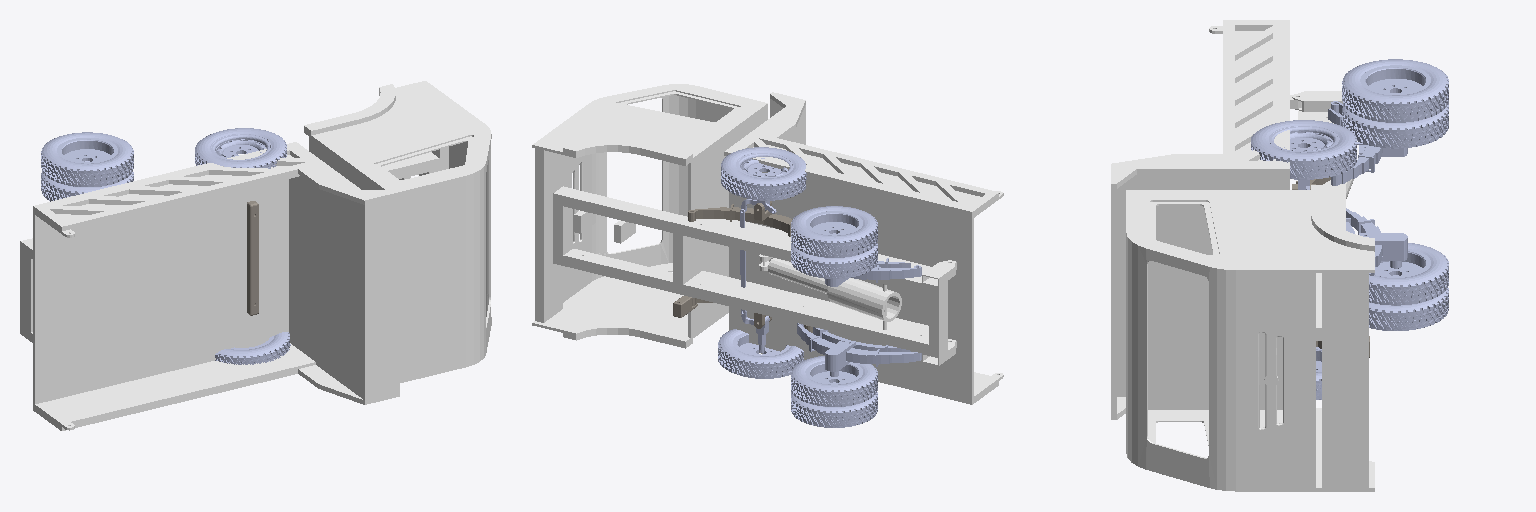
URDF robot description (Assem11):
<?xml version="1.0" encoding="utf-8"?>
<!-- This URDF was automatically created by SolidWorks to URDF Exporter! Originally created by [author] ([email redacted]) 
     Commit Version: 1.6.0-4-g7f85cfe  Build Version: 1.6.7995.38578
     For more information, please see http://wiki.ros.org/sw_urdf_exporter -->
<robot
  name="Assem11">
  <link
    name="base_link">
    <inertial>
      <origin
        xyz="-0.472647441390191 0.0789496187119673 -0.0328685285624268"
        rpy="0 0 0" />
      <mass
        value="0.422184039657028" />
      <inertia
        ixx="0.000320826217154303"
        ixy="4.20879745539875E-05"
        ixz="7.16279846938345E-05"
        iyy="0.00561040931161564"
        iyz="-1.07433119929774E-06"
        izz="0.00533913204176968" />
    </inertial>
    <visual>
      <origin
        xyz="0 0 0"
        rpy="0 0 0" />
      <geometry>
        <mesh
          filename="package://Assem11/meshes/base_link.STL" />
      </geometry>
      <material
        name="">
        <color
          rgba="0.792156862745098 0.819607843137255 0.933333333333333 1" />
      </material>
    </visual>
    <collision>
      <origin
        xyz="0 0 0"
        rpy="0 0 0" />
      <geometry>
        <mesh
          filename="package://Assem11/meshes/base_link.STL" />
      </geometry>
    </collision>
  </link>
  <link
    name="Chassis_Link">
    <inertial>
      <origin
        xyz="-0.472647441390191 0.0789496187119673 -0.0328685285624268"
        rpy="0 0 0" />
      <mass
        value="0.422184039657028" />
      <inertia
        ixx="0.000320826217154303"
        ixy="4.20879745539875E-05"
        ixz="7.16279846938345E-05"
        iyy="0.00561040931161564"
        iyz="-1.07433119929774E-06"
        izz="0.00533913204176968" />
    </inertial>
    <visual>
      <origin
        xyz="0 0 0"
        rpy="0 0 0" />
      <geometry>
        <mesh
          filename="package://Assem11/meshes/Chassis_Link.STL" />
      </geometry>
      <material
        name="">
        <color
          rgba="1 1 1 1" />
      </material>
    </visual>
    <collision>
      <origin
        xyz="0 0 0"
        rpy="0 0 0" />
      <geometry>
        <mesh
          filename="package://Assem11/meshes/Chassis_Link.STL" />
      </geometry>
    </collision>
  </link>
  <joint
    name="Chassis_Joint"
    type="fixed">
    <origin
      xyz="-0.0608039202534793 -0.0219779356308567 0.0298712975304457"
      rpy="3.14159265358979 0 0" />
    <parent
      link="base_link" />
    <child
      link="Chassis_Link" />
    <axis
      xyz="0 0 0" />
  </joint>
  <link
    name="Cabin_Link">
    <inertial>
      <origin
        xyz="-0.472647441390191 0.0789496187119673 -0.0328685285624268"
        rpy="0 0 0" />
      <mass
        value="0.422184039657028" />
      <inertia
        ixx="0.000320826217154303"
        ixy="4.20879745539875E-05"
        ixz="7.16279846938345E-05"
        iyy="0.00561040931161564"
        iyz="-1.07433119929774E-06"
        izz="0.00533913204176968" />
    </inertial>
    <visual>
      <origin
        xyz="0 0 0"
        rpy="0 0 0" />
      <geometry>
        <mesh
          filename="package://Assem11/meshes/Cabin_Link.STL" />
      </geometry>
      <material
        name="">
        <color
          rgba="1 1 1 1" />
      </material>
    </visual>
    <collision>
      <origin
        xyz="0 0 0"
        rpy="0 0 0" />
      <geometry>
        <mesh
          filename="package://Assem11/meshes/Cabin_Link.STL" />
      </geometry>
    </collision>
  </link>
  <joint
    name="Cabin_Joint"
    type="fixed">
    <origin
      xyz="0.45749999999962 -0.065000000000059 0.047"
      rpy="0 1.5707963267949 0" />
    <parent
      link="Chassis_Link" />
    <child
      link="Cabin_Link" />
    <axis
      xyz="0 0 0" />
  </joint>
  <link
    name="Front_Link">
    <inertial>
      <origin
        xyz="-0.472647441390191 0.0789496187119673 -0.0328685285624268"
        rpy="0 0 0" />
      <mass
        value="0.422184039657028" />
      <inertia
        ixx="0.000320826217154303"
        ixy="4.20879745539875E-05"
        ixz="7.16279846938345E-05"
        iyy="0.00561040931161564"
        iyz="-1.07433119929774E-06"
        izz="0.00533913204176968" />
    </inertial>
    <visual>
      <origin
        xyz="0 0 0"
        rpy="0 0 0" />
      <geometry>
        <mesh
          filename="package://Assem11/meshes/Front_Link.STL" />
      </geometry>
      <material
        name="">
        <color
          rgba="0.647058823529412 0.619607843137255 0.588235294117647 1" />
      </material>
    </visual>
    <collision>
      <origin
        xyz="0 0 0"
        rpy="0 0 0" />
      <geometry>
        <mesh
          filename="package://Assem11/meshes/Front_Link.STL" />
      </geometry>
    </collision>
  </link>
  <joint
    name="Front_Joint"
    type="fixed">
    <origin
      xyz="0.285 -0.044 0.008"
      rpy="3.1416 -1.5708 0" />
    <parent
      link="Chassis_Link" />
    <child
      link="Front_Link" />
    <axis
      xyz="0 0 0" />
  </joint>
  <link
    name="Caster_Link">
    <inertial>
      <origin
        xyz="-0.472647441390191 0.0789496187119673 -0.0328685285624268"
        rpy="0 0 0" />
      <mass
        value="0.422184039657028" />
      <inertia
        ixx="0.000320826217154303"
        ixy="4.20879745539875E-05"
        ixz="7.16279846938345E-05"
        iyy="0.00561040931161564"
        iyz="-1.07433119929774E-06"
        izz="0.00533913204176968" />
    </inertial>
    <visual>
      <origin
        xyz="0 0 0"
        rpy="0 0 0" />
      <geometry>
        <mesh
          filename="package://Assem11/meshes/Caster_Link.STL" />
      </geometry>
      <material
        name="">
        <color
          rgba="0.792156862745098 0.819607843137255 0.933333333333333 1" />
      </material>
    </visual>
    <collision>
      <origin
        xyz="0 0 0"
        rpy="0 0 0" />
      <geometry>
        <mesh
          filename="package://Assem11/meshes/Caster_Link.STL" />
      </geometry>
    </collision>
  </link>
  <joint
    name="Caster_Joint"
    type="revolute">
    <origin
      xyz="0.0165 -0.043963 -0.065"
      rpy="-1.5708 1.5242 0" />
    <parent
      link="Front_Link" />
    <child
      link="Caster_Link" />
    <axis
      xyz="0 0 0" />
    <limit
      lower="0"
      upper="0"
      effort="0"
      velocity="0" />
  </joint>
  <link
    name="Front_Wheel_Link">
    <inertial>
      <origin
        xyz="-0.472647441390191 0.0789496187119673 -0.0328685285624268"
        rpy="0 0 0" />
      <mass
        value="0.422184039657028" />
      <inertia
        ixx="0.000320826217154303"
        ixy="4.20879745539875E-05"
        ixz="7.16279846938345E-05"
        iyy="0.00561040931161564"
        iyz="-1.07433119929774E-06"
        izz="0.00533913204176968" />
    </inertial>
    <visual>
      <origin
        xyz="0 0 0"
        rpy="0 0 0" />
      <geometry>
        <mesh
          filename="package://Assem11/meshes/Front_Wheel_Link.STL" />
      </geometry>
      <material
        name="">
        <color
          rgba="0.792156862745098 0.819607843137255 0.933333333333333 1" />
      </material>
    </visual>
    <collision>
      <origin
        xyz="0 0 0"
        rpy="0 0 0" />
      <geometry>
        <mesh
          filename="package://Assem11/meshes/Front_Wheel_Link.STL" />
      </geometry>
    </collision>
  </link>
  <joint
    name="Front_Wheel_Joint"
    type="continuous">
    <origin
      xyz="-0.034385 0.22039 -0.010368"
      rpy="1.5708 -1.25 0.65743" />
    <parent
      link="Caster_Link" />
    <child
      link="Front_Wheel_Link" />
    <axis
      xyz="0 0 0" />
  </joint>
  <link
    name="Rear_Link">
    <inertial>
      <origin
        xyz="-0.472647441390191 0.0789496187119673 -0.0328685285624268"
        rpy="0 0 0" />
      <mass
        value="0.422184039657028" />
      <inertia
        ixx="0.000320826217154303"
        ixy="4.20879745539875E-05"
        ixz="7.16279846938345E-05"
        iyy="0.00561040931161564"
        iyz="-1.07433119929774E-06"
        izz="0.00533913204176968" />
    </inertial>
    <visual>
      <origin
        xyz="0 0 0"
        rpy="0 0 0" />
      <geometry>
        <mesh
          filename="package://Assem11/meshes/Rear_Link.STL" />
      </geometry>
      <material
        name="">
        <color
          rgba="0.792156862745098 0.819607843137255 0.933333333333333 1" />
      </material>
    </visual>
    <collision>
      <origin
        xyz="0 0 0"
        rpy="0 0 0" />
      <geometry>
        <mesh
          filename="package://Assem11/meshes/Rear_Link.STL" />
      </geometry>
    </collision>
  </link>
  <joint
    name="Rear_Joint"
    type="fixed">
    <origin
      xyz="0.0899999999996202 -0.0824633891931364 -0.079"
      rpy="3.14159265358979 0 3.14159265358979" />
    <parent
      link="Chassis_Link" />
    <child
      link="Rear_Link" />
    <axis
      xyz="0 0 0" />
  </joint>
  <link
    name="Rear_Wheel_Link">
    <inertial>
      <origin
        xyz="-0.472647441390191 0.0789496187119673 -0.0328685285624268"
        rpy="0 0 0" />
      <mass
        value="0.422184039657028" />
      <inertia
        ixx="0.000320826217154303"
        ixy="4.20879745539875E-05"
        ixz="7.16279846938345E-05"
        iyy="0.00561040931161564"
        iyz="-1.07433119929774E-06"
        izz="0.00533913204176968" />
    </inertial>
    <visual>
      <origin
        xyz="0 0 0"
        rpy="0 0 0" />
      <geometry>
        <mesh
          filename="package://Assem11/meshes/Rear_Wheel_Link.STL" />
      </geometry>
      <material
        name="">
        <color
          rgba="0.792156862745098 0.819607843137255 0.933333333333333 1" />
      </material>
    </visual>
    <collision>
      <origin
        xyz="0 0 0"
        rpy="0 0 0" />
      <geometry>
        <mesh
          filename="package://Assem11/meshes/Rear_Wheel_Link.STL" />
      </geometry>
    </collision>
  </link>
  <joint
    name="Rear_Wheel_Joint"
    type="continuous">
    <origin
      xyz="0 0 0"
      rpy="-3.1416 0 -2.7398" />
    <parent
      link="Rear_Link" />
    <child
      link="Rear_Wheel_Link" />
    <axis
      xyz="0 0 1" />
  </joint>
  <link
    name="Trunk_Link">
    <inertial>
      <origin
        xyz="-0.472647441390191 0.0789496187119673 -0.0328685285624268"
        rpy="0 0 0" />
      <mass
        value="0.422184039657028" />
      <inertia
        ixx="0.000320826217154303"
        ixy="4.20879745539875E-05"
        ixz="7.16279846938345E-05"
        iyy="0.00561040931161564"
        iyz="-1.07433119929774E-06"
        izz="0.00533913204176968" />
    </inertial>
    <visual>
      <origin
        xyz="0 0 0"
        rpy="0 0 0" />
      <geometry>
        <mesh
          filename="package://Assem11/meshes/Trunk_Link.STL" />
      </geometry>
      <material
        name="">
        <color
          rgba="1 1 1 1" />
      </material>
    </visual>
    <collision>
      <origin
        xyz="0 0 0"
        rpy="0 0 0" />
      <geometry>
        <mesh
          filename="package://Assem11/meshes/Trunk_Link.STL" />
      </geometry>
    </collision>
  </link>
  <joint
    name="Trunk_Joint"
    type="revolute">
    <origin
      xyz="0 0 0"
      rpy="0 0 0" />
    <parent
      link="Chassis_Link" />
    <child
      link="Trunk_Link" />
    <axis
      xyz="0 0 1" />
    <limit
      lower="0"
      upper="0.87266"
      effort="0"
      velocity="0" />
  </joint>
</robot>

--- Render facts (derived) ---
Views: 3 orthographic renders of the robot side by side, from view 1: azimuth 30°, elevation 25°; view 2: azimuth 150°, elevation 25°; view 3: azimuth 270°, elevation 25°.
Robot: Assem11 — 9 links, 8 joints (2 revolute, 2 continuous, 4 fixed); root link base_link; default pose: every joint at zero.
Links seen in each view (by area): view 1: Trunk_Link, Cabin_Link, Rear_Wheel_Link, Front_Wheel_Link, Chassis_Link, Front_Link; view 2: Cabin_Link, Trunk_Link, Chassis_Link, Rear_Wheel_Link, Front_Wheel_Link, Rear_Link, Front_Link, Caster_Link; view 3: Cabin_Link, Trunk_Link, Rear_Wheel_Link, Front_Wheel_Link, Rear_Link, Chassis_Link.
Link boxes in pixels (x1=…): Trunk_Link: x1=33, y1=142, x2=399, y2=430; Cabin_Link: x1=304, y1=81, x2=491, y2=382; Rear_Wheel_Link: x1=41, y1=132, x2=133, y2=201; Front_Wheel_Link: x1=195, y1=128, x2=290, y2=364; Chassis_Link: x1=20, y1=152, x2=439, y2=342; Front_Link: x1=247, y1=201, x2=258, y2=315; Cabin_Link: x1=532, y1=84, x2=767, y2=348; Trunk_Link: x1=724, y1=92, x2=1003, y2=404; Chassis_Link: x1=553, y1=186, x2=955, y2=365; Rear_Wheel_Link: x1=791, y1=206, x2=877, y2=427; Front_Wheel_Link: x1=718, y1=147, x2=806, y2=378; Rear_Link: x1=797, y1=258, x2=921, y2=376; Front_Link: x1=673, y1=201, x2=812, y2=332; Caster_Link: x1=740, y1=199, x2=776, y2=352; Cabin_Link: x1=1126, y1=185, x2=1374, y2=491; Trunk_Link: x1=1111, y1=20, x2=1353, y2=419; Rear_Wheel_Link: x1=1342, y1=59, x2=1448, y2=330; Front_Wheel_Link: x1=1251, y1=120, x2=1356, y2=399; Rear_Link: x1=1328, y1=101, x2=1407, y2=275; Chassis_Link: x1=1292, y1=91, x2=1345, y2=340.
Bounding box of the posed robot: 0.4835 × 0.2855 × 0.2294 m (x, y, z).
8 mesh visuals loaded from 9 distinct referenced files (8 binary STL); not drawn: 1 (file found but could not be loaded).
